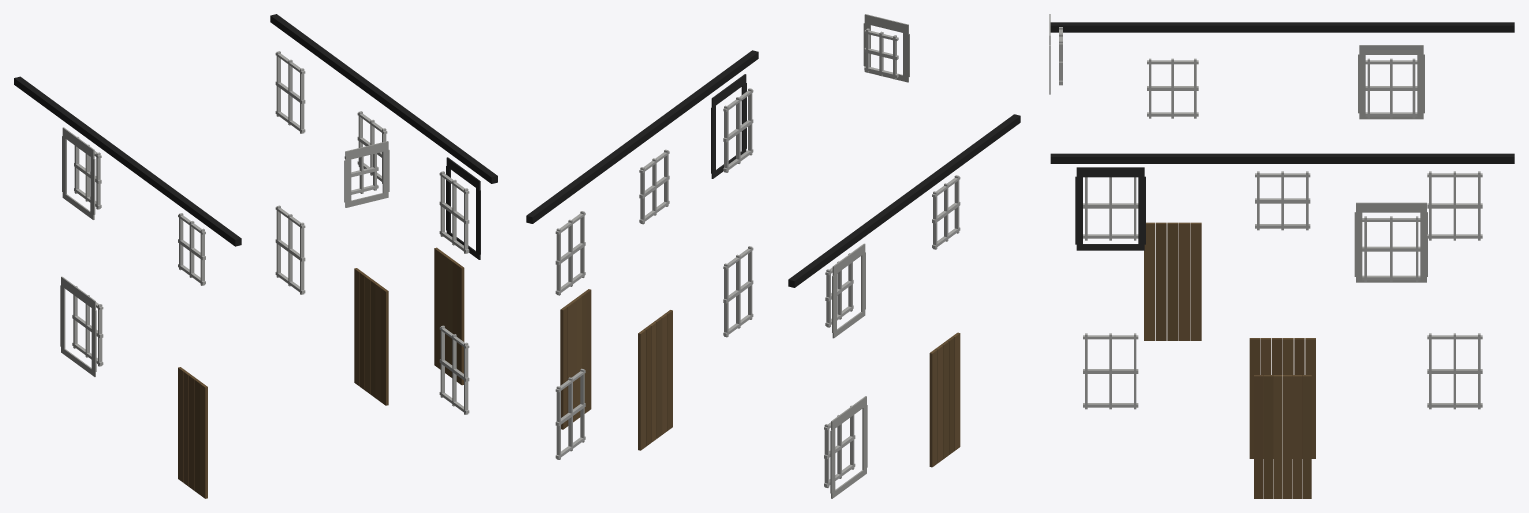
Rendered from SM_Bld_038_Wood.glb.
The picture shows the model from 3 angles, left to right: view 1: azimuth 30°, elevation 25°; view 2: azimuth 150°, elevation 25°; view 3: azimuth 270°, elevation 25°; orthographic projection. The views are drawn at different scales.
Visible parts, largest first — view 1: SM_Bld_038_Wood; view 2: SM_Bld_038_Wood; view 3: SM_Bld_038_Wood.
Boxes of the visible parts, left/top/right/bottom form: SM_Bld_038_Wood: left=14, top=14, right=497, bottom=498; SM_Bld_038_Wood: left=526, top=14, right=1020, bottom=498; SM_Bld_038_Wood: left=1049, top=14, right=1514, bottom=498.
Bounding box in the file's own units: 6.13 × 6.41 × 7.22.
